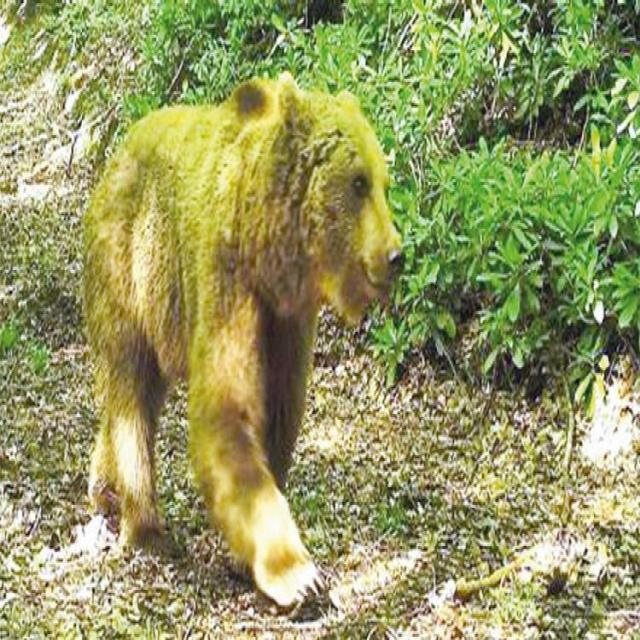Bear: (79, 73, 404, 614)
